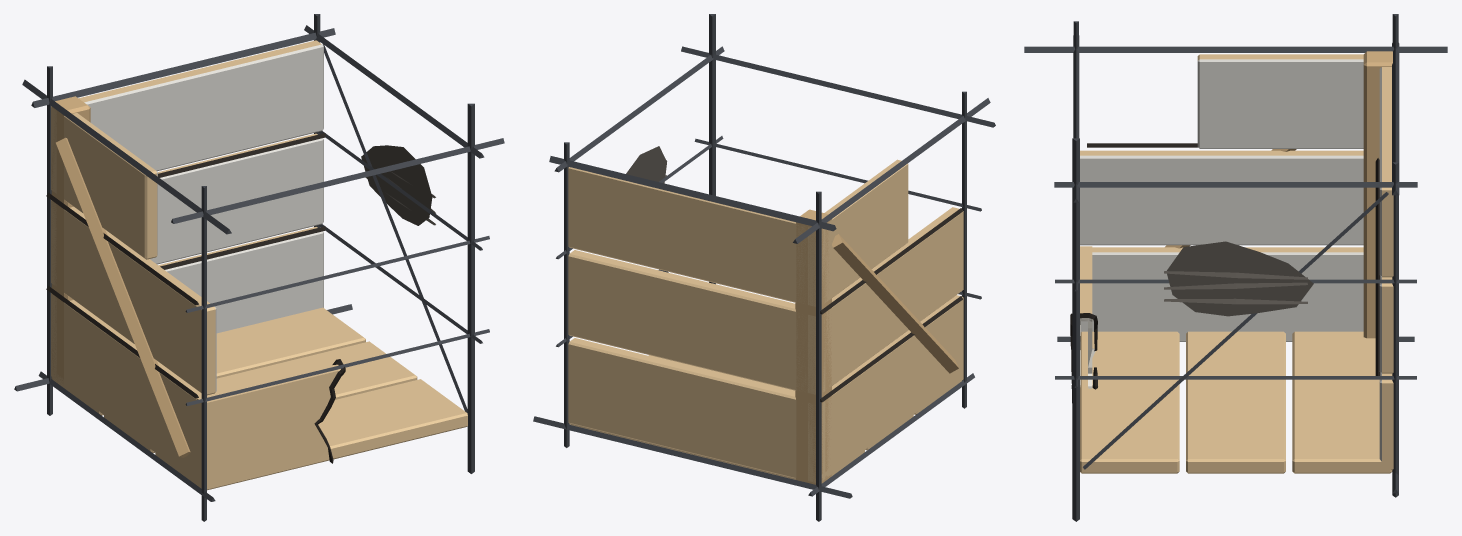
The model's file is Crate.fbx.
3 renders of one model, left to right at view 1: azimuth 30°, elevation 25°; view 2: azimuth 150°, elevation 25°; view 3: azimuth 270°, elevation 25°, orthographic. The views are drawn at different scales.
Visible parts, largest first — view 1: Main, Lines; view 2: Main, Lines; view 3: Main, Lines.
Part boxes in pixels (left/top/right/bottom): Main: left=51, top=40, right=467, bottom=490; Lines: left=14, top=14, right=504, bottom=521; Main: left=568, top=159, right=963, bottom=484; Lines: left=533, top=14, right=995, bottom=521; Main: left=1080, top=51, right=1393, bottom=473; Lines: left=1024, top=14, right=1447, bottom=521.
Size of the model in its own units: 0.7542 by 0.7895 by 0.7958.
